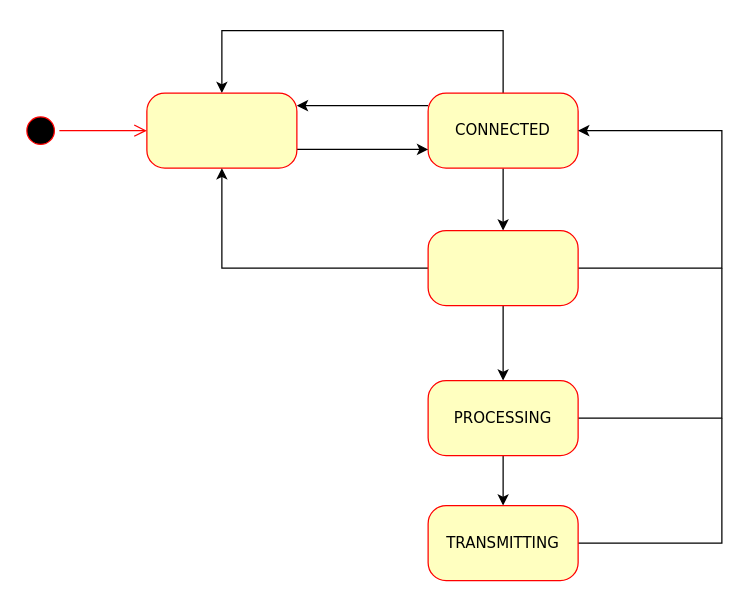
Some shapes in this 754 by 603 pixel diagram are drawn without their labels. Here are the shapes that lost their labels. From the top down, the centre of each, then its label:
(221,130): DISCONNECTED
(502,267): READING
